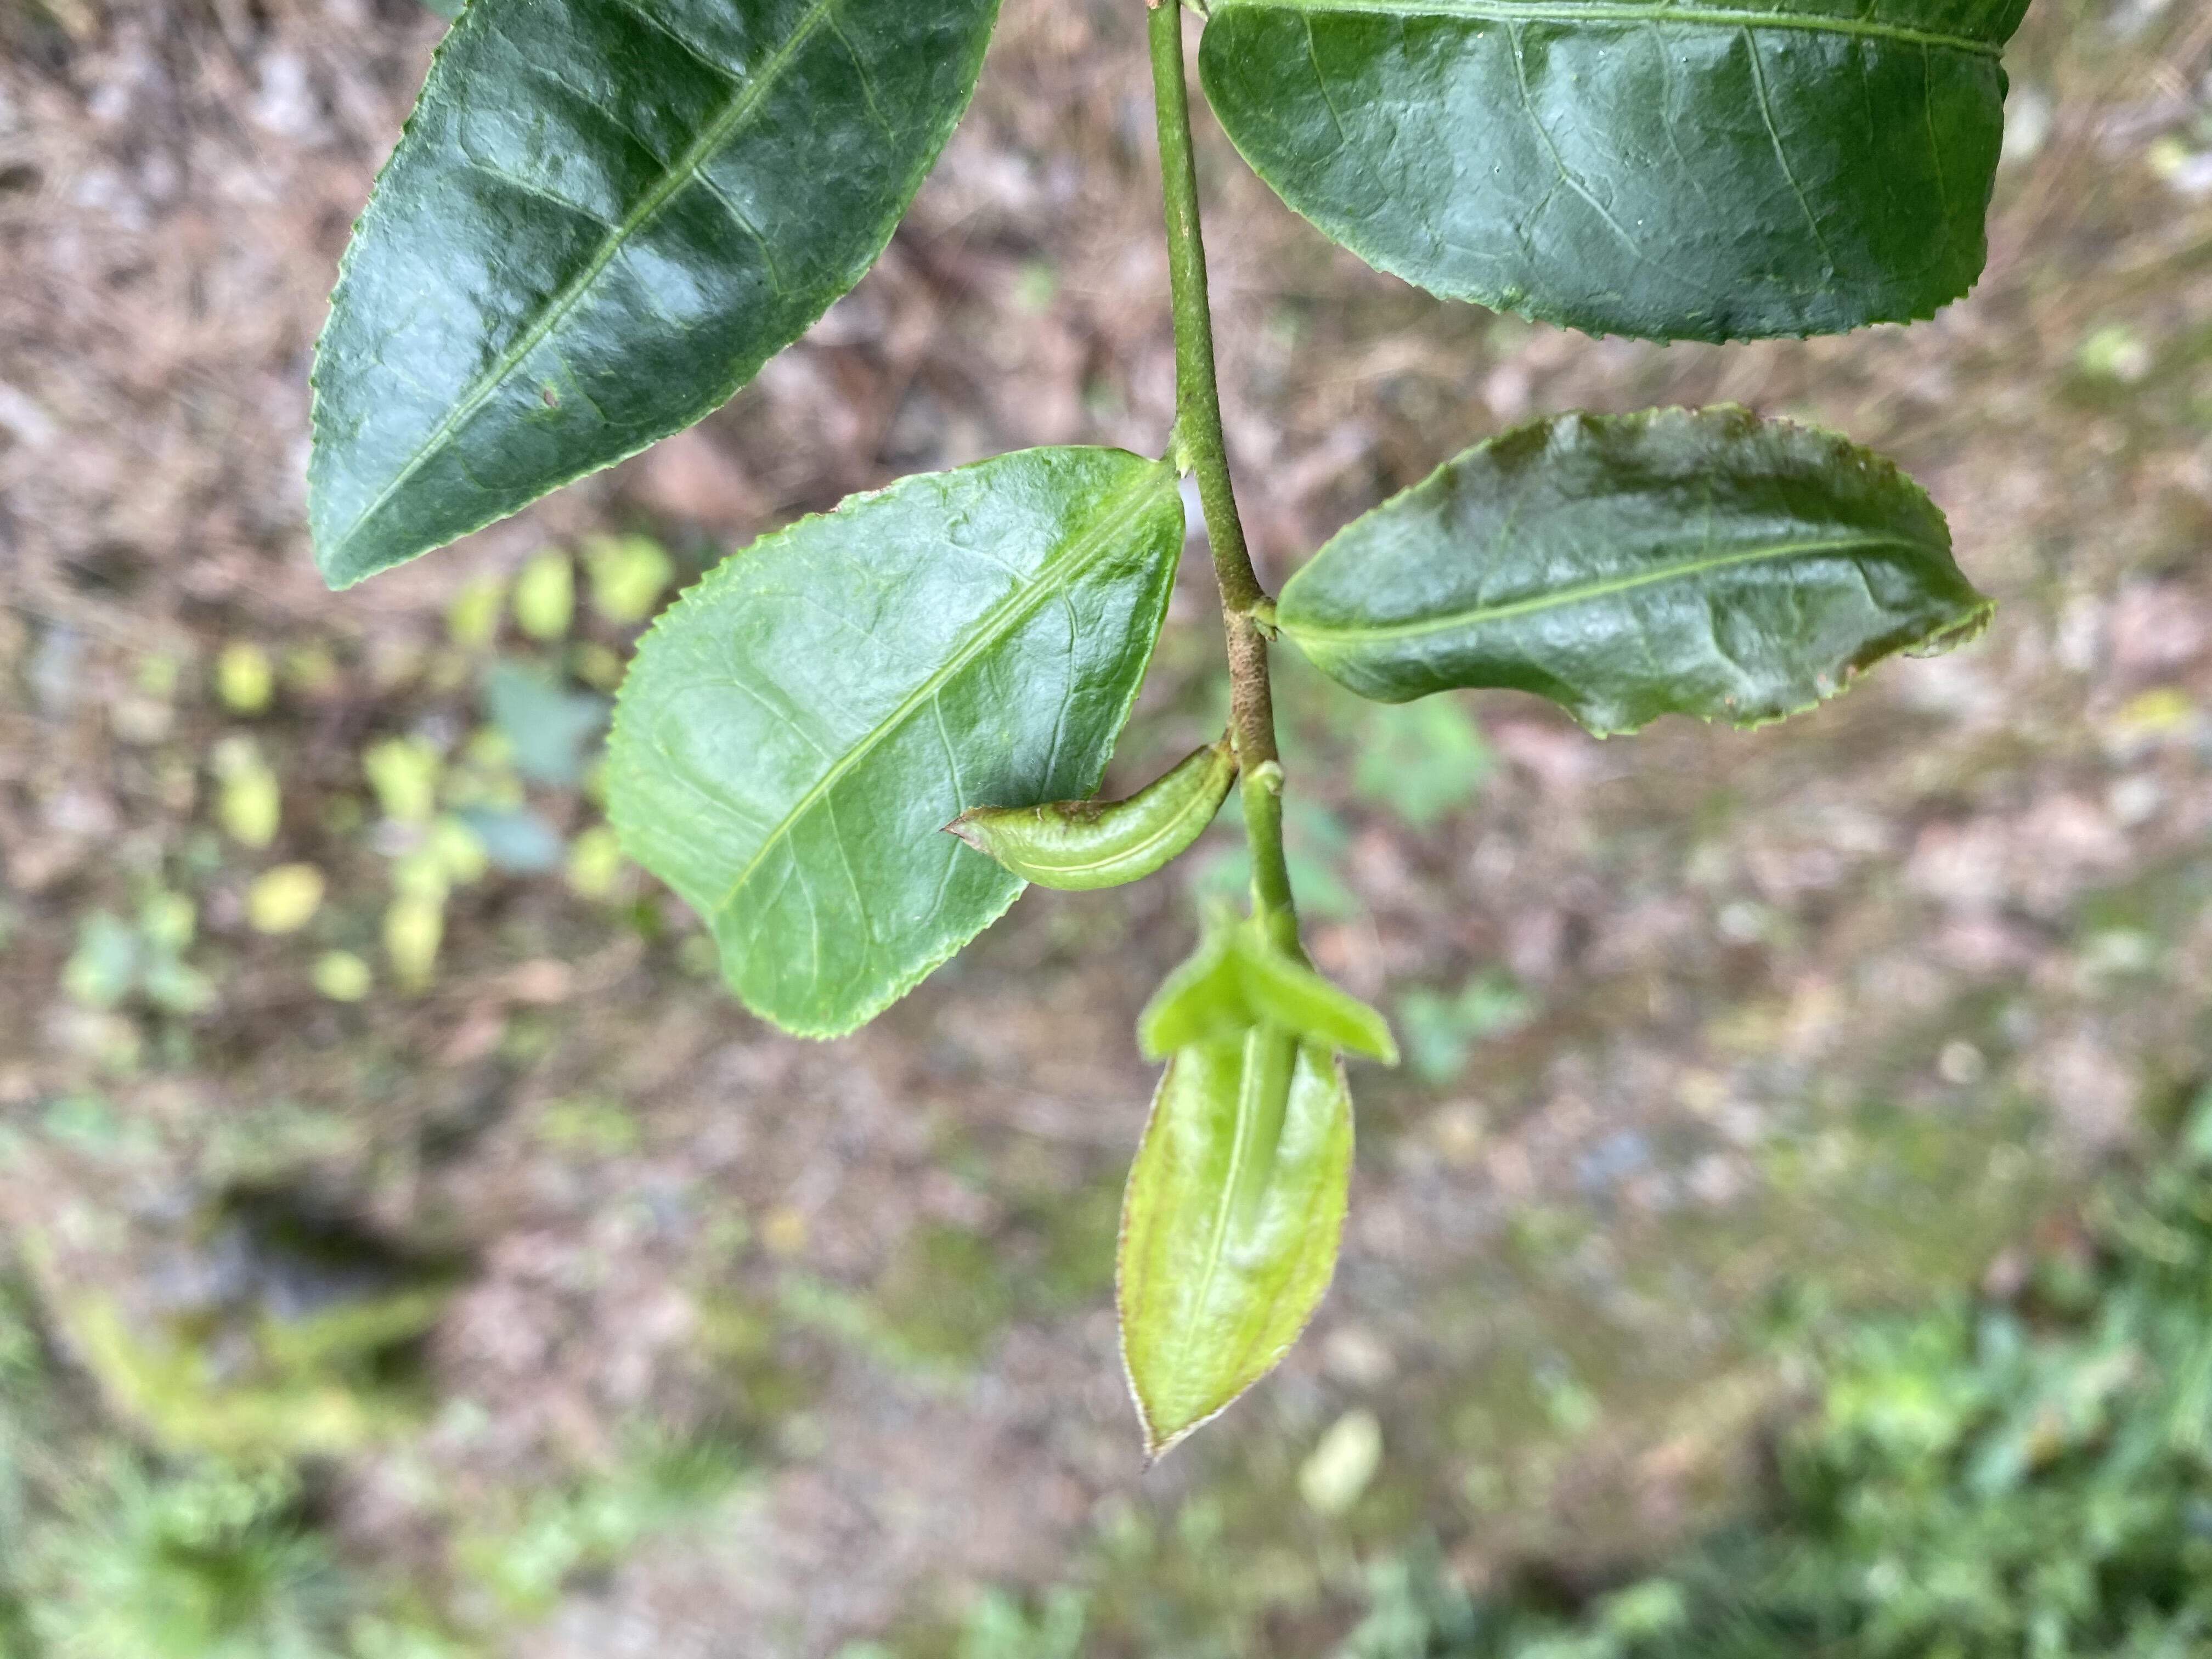healthy: (303, 3, 1010, 594), (601, 446, 1190, 1046), (1197, 2, 2034, 354)
tanju_low: (1109, 1018, 1359, 1467), (934, 739, 1235, 892)
